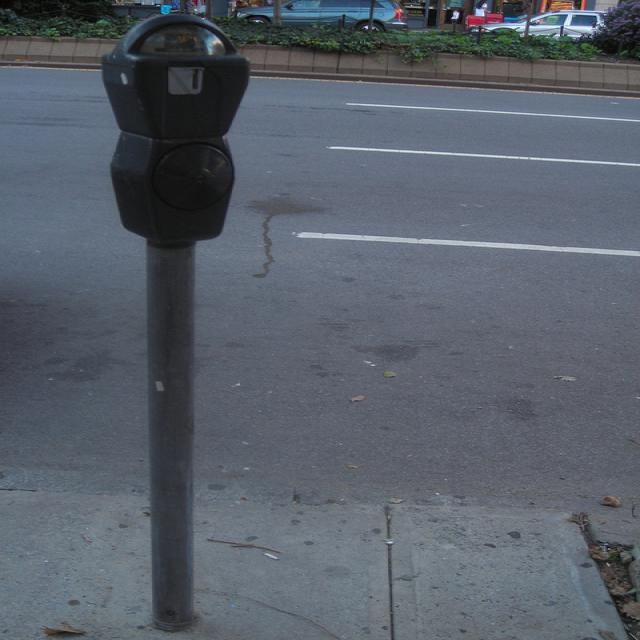Vehicle: (236, 0, 409, 33), (470, 10, 608, 38)
